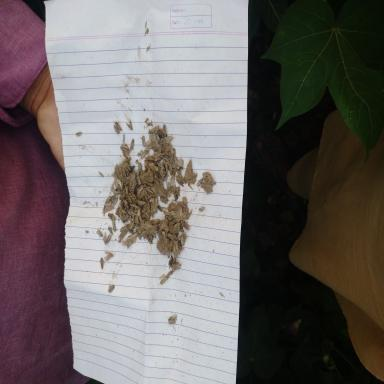pbw: (119, 161, 128, 172), (158, 240, 167, 251), (176, 158, 184, 170), (182, 196, 190, 208), (114, 118, 121, 131), (158, 220, 167, 230), (104, 251, 114, 260), (145, 219, 153, 230), (142, 203, 153, 211), (141, 176, 149, 186), (160, 196, 169, 204), (186, 208, 192, 220), (136, 163, 142, 175), (191, 172, 197, 184), (129, 139, 135, 151), (172, 262, 181, 270), (154, 137, 160, 149), (180, 232, 185, 246), (196, 176, 203, 186), (104, 205, 114, 212), (135, 188, 142, 198), (170, 175, 176, 186), (178, 244, 184, 255), (172, 245, 178, 256), (168, 143, 174, 154), (168, 202, 176, 210), (182, 222, 190, 230), (144, 170, 152, 178), (136, 176, 142, 186), (178, 204, 183, 216), (124, 150, 130, 160), (114, 166, 120, 176), (126, 120, 132, 130), (175, 190, 181, 200), (141, 135, 146, 147), (168, 218, 178, 224), (107, 226, 114, 234), (160, 276, 167, 284), (162, 122, 166, 136), (150, 184, 156, 193), (97, 228, 103, 237), (136, 200, 145, 206), (140, 150, 146, 159), (106, 234, 112, 243), (180, 175, 186, 184), (148, 128, 158, 133), (136, 206, 141, 216), (166, 135, 173, 142), (152, 219, 159, 226), (168, 232, 174, 240), (146, 189, 154, 195), (166, 192, 174, 198), (105, 195, 110, 204), (121, 144, 128, 150), (198, 206, 205, 212), (175, 175, 182, 181), (111, 189, 118, 195), (151, 230, 156, 238), (112, 222, 116, 232), (164, 164, 168, 174), (161, 230, 165, 240), (159, 128, 164, 136), (168, 211, 176, 216), (113, 196, 118, 204), (138, 212, 142, 222), (146, 238, 152, 244), (148, 161, 154, 167), (154, 195, 158, 204), (180, 219, 184, 228), (160, 187, 166, 193), (131, 231, 138, 236), (125, 163, 130, 170), (146, 139, 151, 146), (127, 224, 132, 231), (177, 169, 182, 176), (153, 175, 160, 180), (154, 165, 159, 172), (163, 250, 170, 255), (118, 210, 122, 218), (128, 196, 132, 204), (130, 221, 134, 229), (125, 186, 129, 194), (120, 172, 124, 180), (107, 213, 112, 219), (121, 181, 124, 191), (169, 166, 172, 176), (188, 184, 194, 189), (126, 166, 129, 176), (155, 157, 161, 162), (161, 207, 168, 211), (156, 152, 163, 156), (177, 182, 184, 186), (151, 154, 158, 158), (209, 180, 216, 184), (155, 125, 158, 134), (173, 258, 177, 264), (150, 204, 153, 212), (123, 170, 127, 176), (140, 230, 146, 234), (138, 234, 142, 240), (107, 201, 111, 207), (148, 201, 150, 213), (127, 191, 133, 195), (131, 204, 137, 208), (168, 242, 171, 250), (118, 206, 123, 210), (119, 195, 124, 199), (144, 196, 147, 202), (124, 198, 127, 204), (130, 186, 134, 190), (128, 210, 132, 214), (162, 161, 166, 165), (132, 214, 134, 222), (113, 184, 116, 189), (122, 209, 125, 214), (164, 154, 167, 158)
